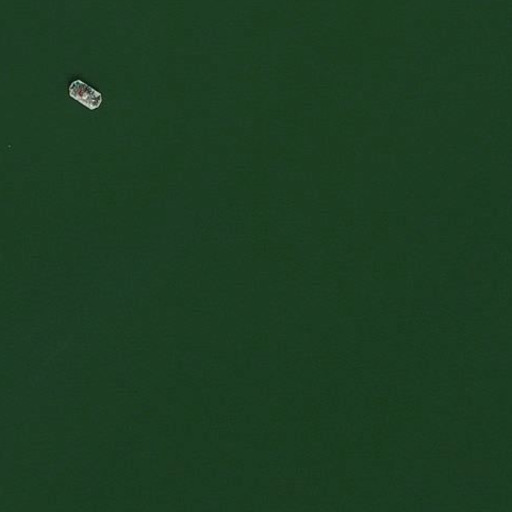ship: (65, 76, 105, 114)
